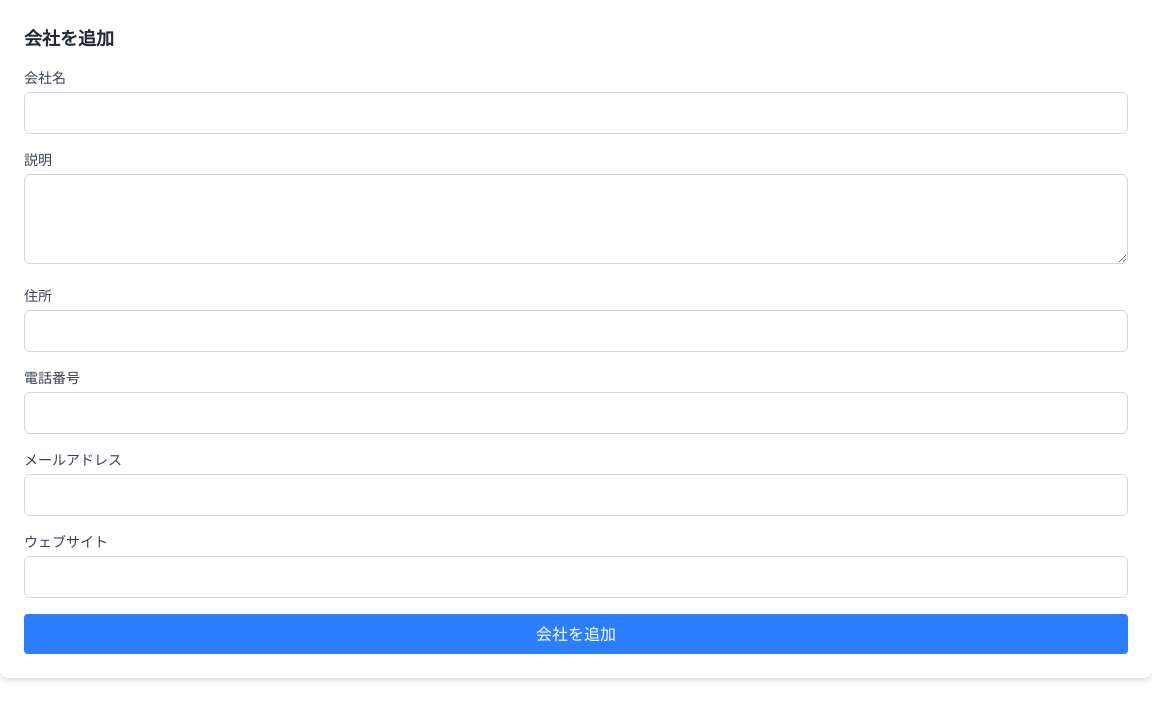
Scenario: CompanyForm Component › should show error message when submission fails
Fill in the required field
In the field labelled "会社名": x=576, y=113 [24,92,1128,134], type "Test Company"
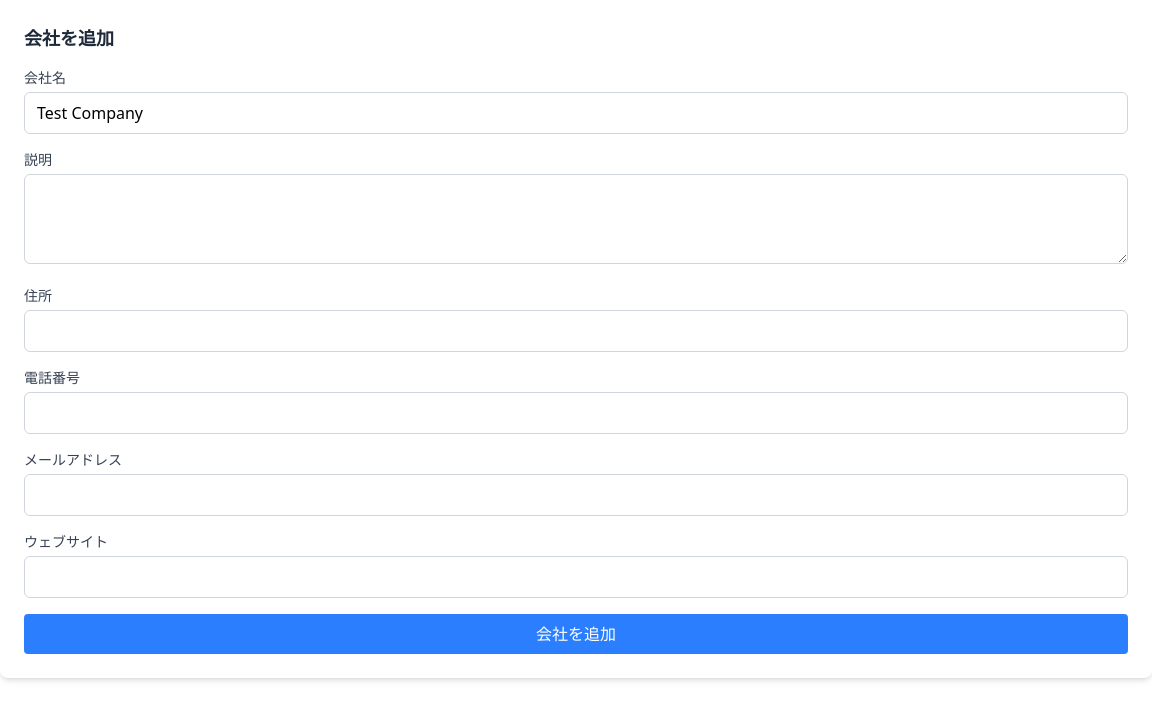
Submit the form
Click the button "会社を追加": x=576, y=634 [24,614,1128,654]
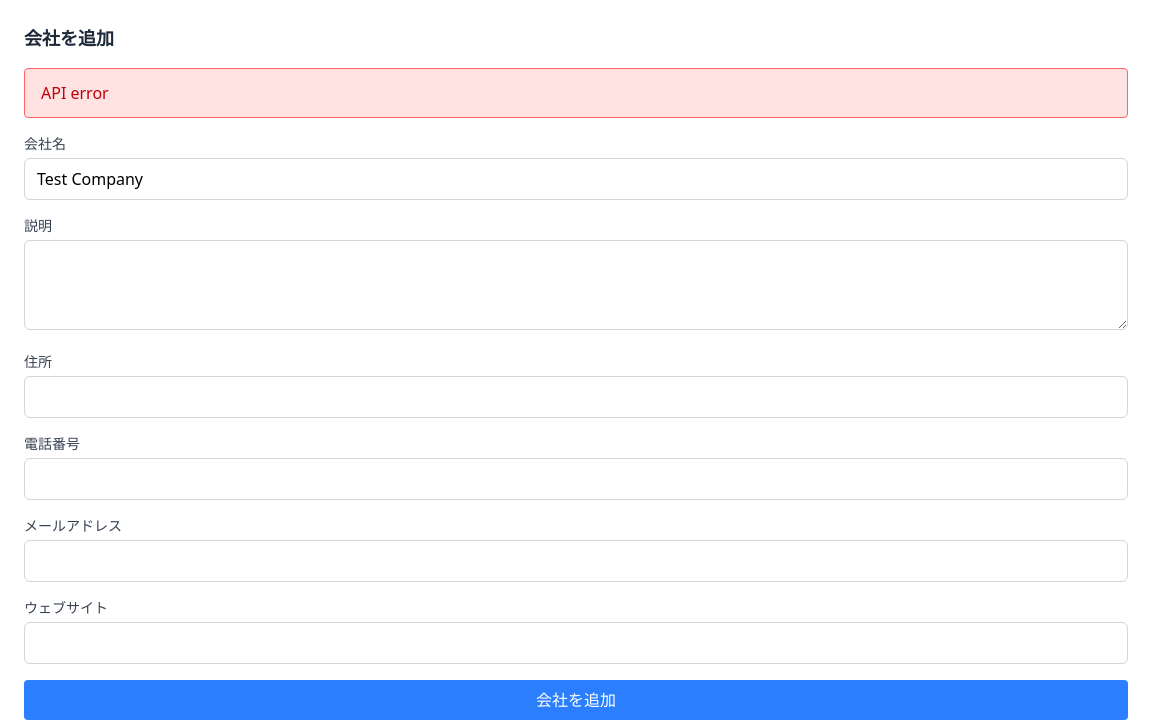
Now the text "API error" is shown, box [24,68,1128,118]
